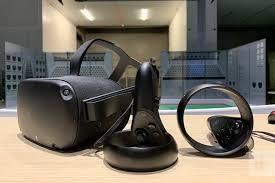oculus: (17, 72, 132, 153)
